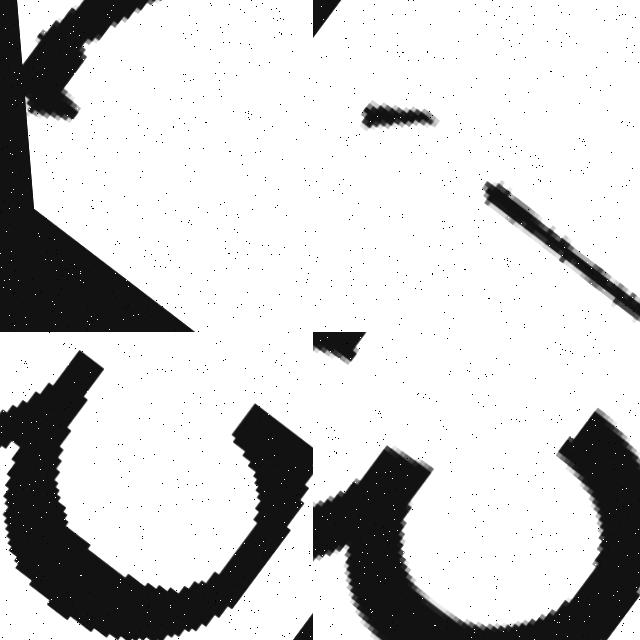3: (313, 332, 640, 640), (0, 332, 313, 640)
J: (326, 0, 640, 332)
S: (0, 0, 313, 332)
